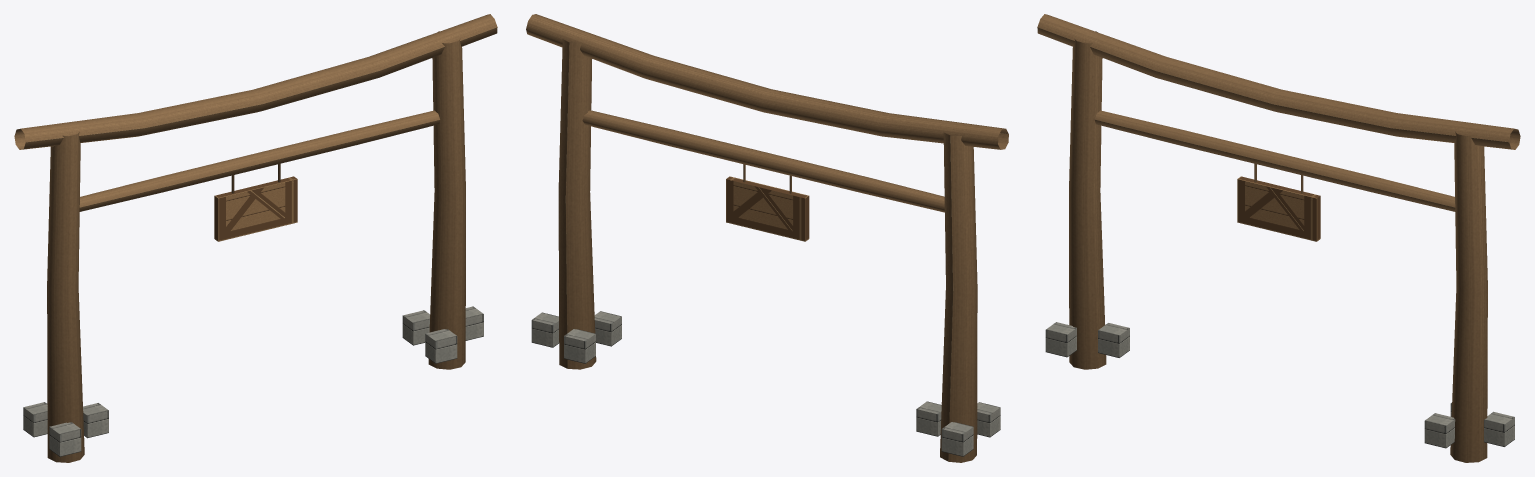
The model's file is waygate.glb.
3 views of the same model, side by side, from view 1: azimuth 30°, elevation 25°; view 2: azimuth 150°, elevation 25°; view 3: azimuth 330°, elevation 25° (orthographic).
Visible parts, largest first — view 1: waygate; view 2: waygate; view 3: waygate.
Part boxes in pixels (x1,y1,x2,y2): waygate: (14,14,497,462); waygate: (526,14,1008,462); waygate: (1037,14,1520,462).
Size of the model in its own units: 5.73 by 3.89 by 0.7745.
Materials: 4 (4 with a texture image).
